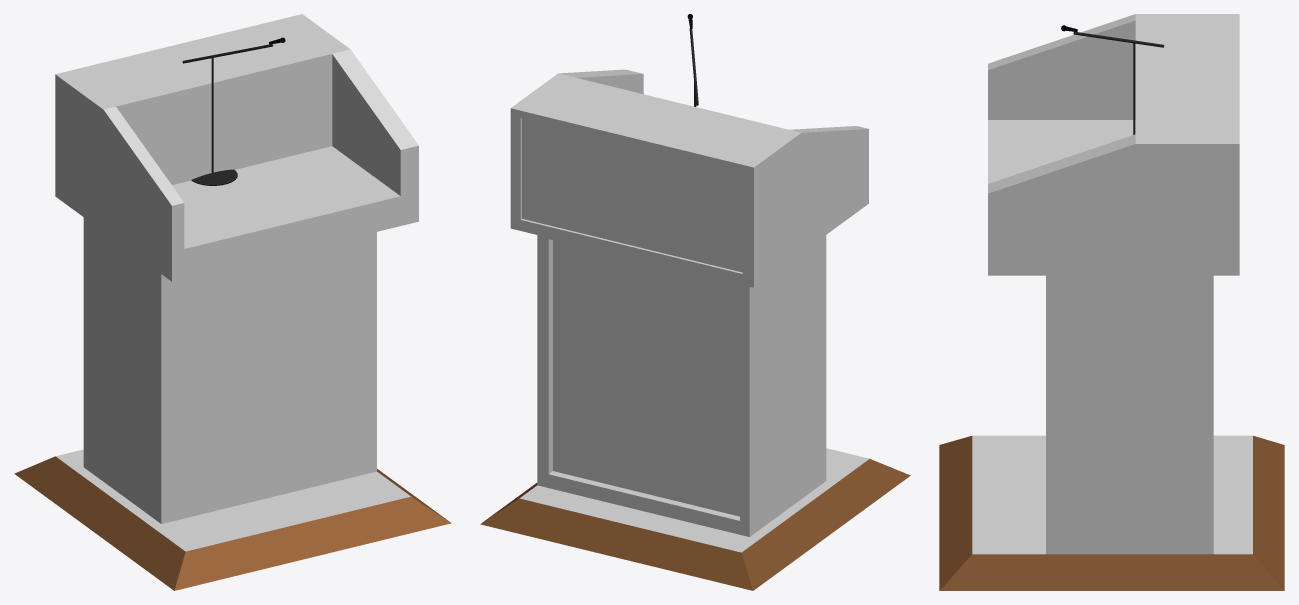
3 renders of one model, left to right at view 1: azimuth 30°, elevation 25°; view 2: azimuth 150°, elevation 25°; view 3: azimuth 270°, elevation 25°, orthographic. The views are drawn at different scales.
Visible parts, largest first — view 1: Layer0_001, Microphone w/Stand_001; view 2: Layer0_001; view 3: Layer0_001, Microphone w/Stand_001.
Part boxes in pixels (x1,y1,x2,y2): Layer0_001: [14, 14, 451, 590]; Microphone w/Stand_001: [182, 37, 285, 185]; Layer0_001: [480, 69, 910, 590]; Layer0_001: [939, 14, 1284, 590]; Microphone w/Stand_001: [1061, 25, 1164, 134].
Bounding box in the file's own units: 26.75 × 43.32 × 26.75.
